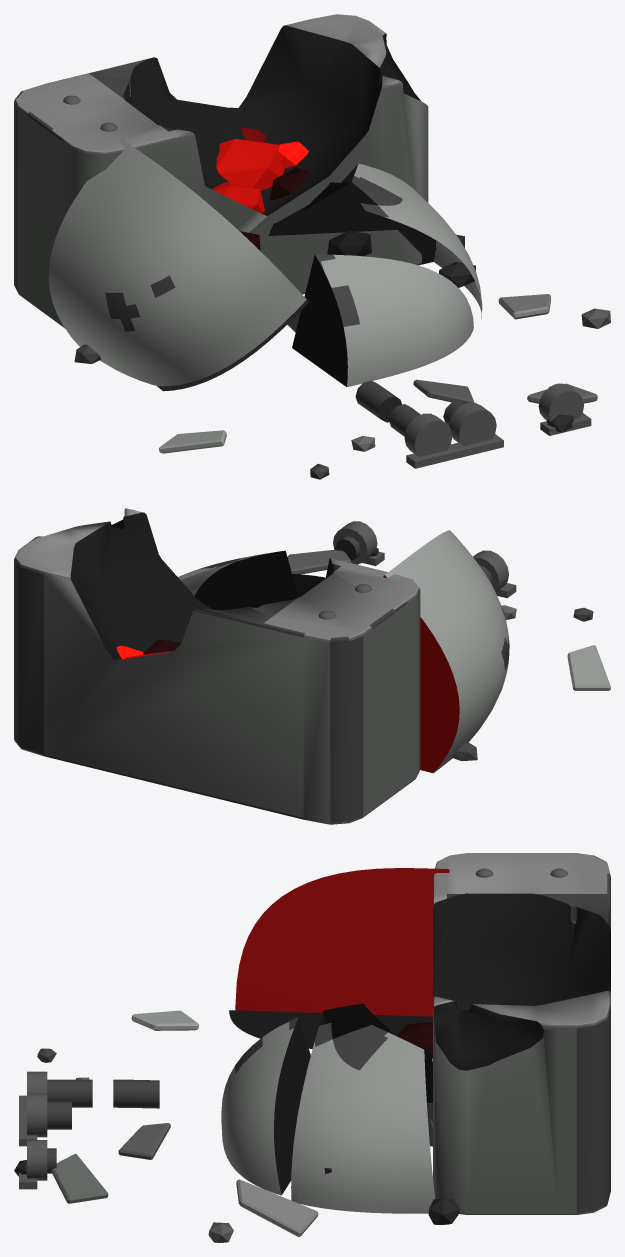
The model's file is green_lamp_bunker_wreck.glb.
3 renders of one model, top to bottom at view 1: azimuth 30°, elevation 25°; view 2: azimuth 150°, elevation 25°; view 3: azimuth 270°, elevation 25°, orthographic. The views are drawn at different scales.
Visible parts, largest first — view 1: head, shield, shield_r, shield_rb, ember1, flange0, flange1, flange2, pipe_left1, plate2, plate0, rubble7 (+4 smaller); view 2: head, shield, shield_rb, plate2, plate1, flange2, flange0, shield_r; view 3: head, shield, shield_rb, shield_r, plate0, plate1, pipe_left1, plate3, pipe_left0, plate2, flange1, flange2 (+3 smaller).
Boxes of the visible parts, x1,y1,x2,y2 form: head: [14, 14, 428, 328]; shield: [48, 139, 309, 391]; shield_r: [292, 254, 473, 387]; shield_rb: [268, 163, 482, 332]; ember1: [216, 139, 284, 190]; flange0: [404, 413, 452, 456]; flange1: [449, 402, 496, 445]; flange2: [538, 383, 583, 420]; pipe_left1: [355, 380, 401, 422]; plate2: [159, 430, 226, 453]; plate0: [498, 294, 550, 319]; rubble7: [327, 230, 371, 256]; head: [14, 508, 420, 824]; shield: [383, 530, 509, 773]; shield_rb: [178, 550, 298, 609]; plate2: [567, 645, 610, 690]; plate1: [287, 549, 351, 574]; flange2: [333, 521, 377, 564]; flange0: [473, 550, 508, 592]; shield_r: [292, 574, 325, 597]; head: [433, 853, 610, 1214]; shield: [229, 868, 449, 1048]; shield_rb: [291, 1003, 435, 1213]; shield_r: [221, 1017, 310, 1195]; plate0: [236, 1179, 318, 1236]; plate1: [51, 1153, 108, 1203]; pipe_left1: [113, 1079, 159, 1108]; plate3: [118, 1123, 170, 1159]; pipe_left0: [47, 1079, 92, 1107]; plate2: [131, 1010, 198, 1030]; flange1: [27, 1093, 47, 1137]; flange2: [27, 1140, 47, 1180].
Bounding box in the file's own units: 21.28 × 8.37 × 23.15.
